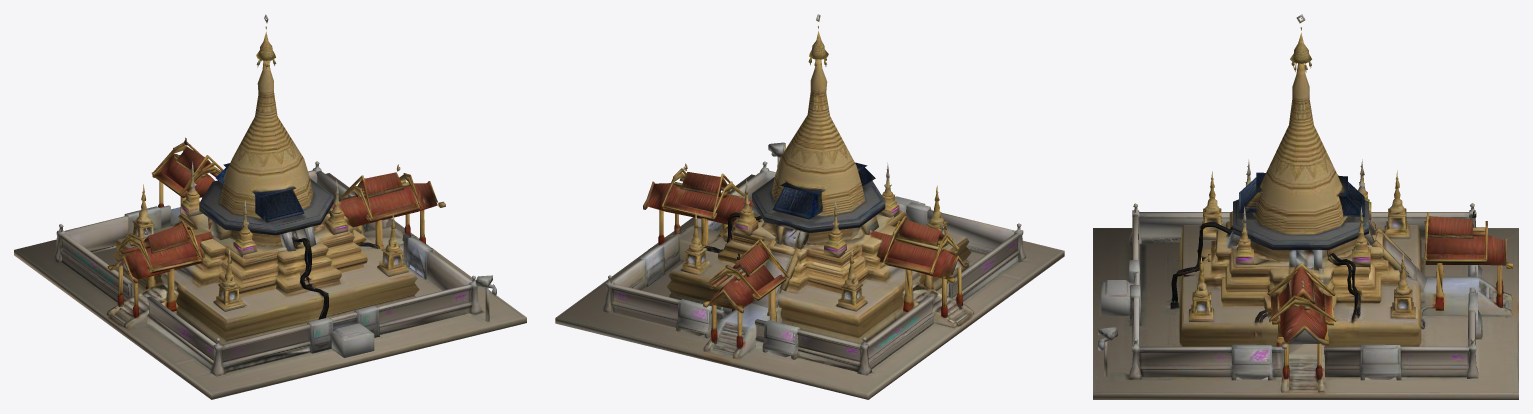
File: lm_shwedagon.glb
3 views of the same model, side by side, from view 1: azimuth 30°, elevation 25°; view 2: azimuth 150°, elevation 25°; view 3: azimuth 270°, elevation 25° (orthographic). The views are drawn at different scales.
Parts seen in each view (by area): view 1: Body, Trim; view 2: Body, Trim; view 3: Body.
Part boxes in pixels (<box>): Body: <box>14,14,526,399</box>; Trim: <box>111,49,418,306</box>; Body: <box>555,14,1064,399</box>; Trim: <box>662,48,958,328</box>; Body: <box>1093,14,1518,399</box>.
Size of the model in its own units: 48.46 by 40 by 51.49.
Materials: 2 (2 with a texture image).
